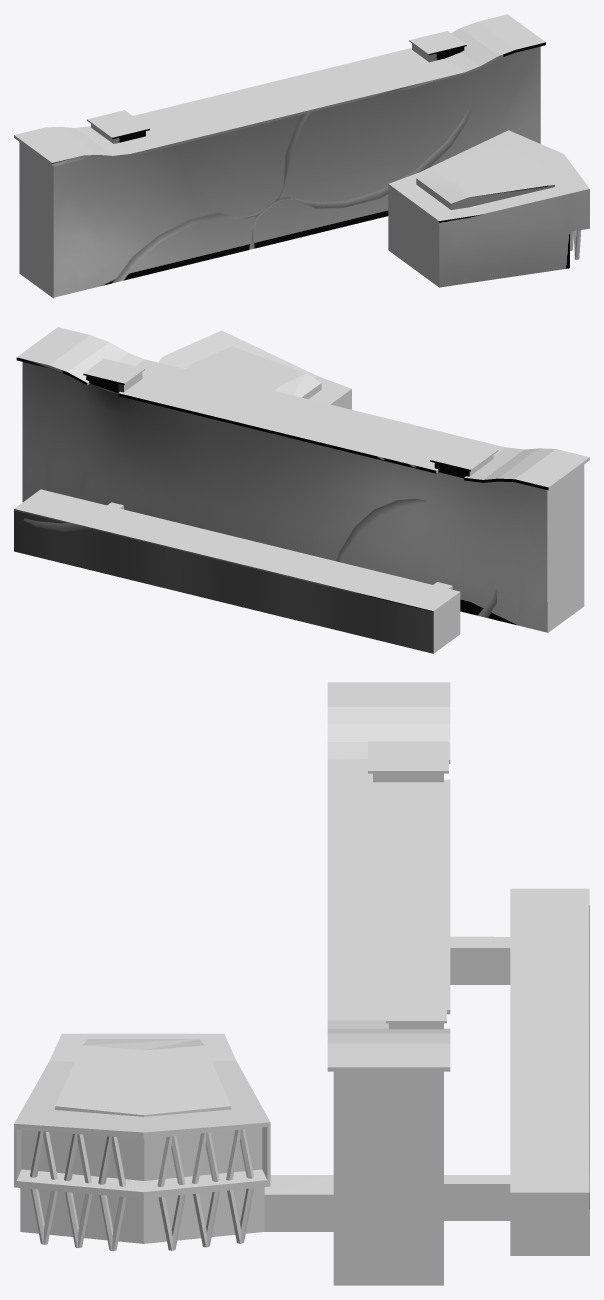
Rendered from hausGausFineTexturedRadiosity.dae.
3 renders of one model, top to bottom at view 1: azimuth 30°, elevation 25°; view 2: azimuth 150°, elevation 25°; view 3: azimuth 270°, elevation 25°, orthographic. The views are drawn at different scales.
Visible parts, largest first — view 1: Rectangle02-node; view 2: Rectangle02-node; view 3: Rectangle02-node, Tube_001.
Part boxes in pixels (x1,y1,x2,y2): Rectangle02-node: (14,14,589,298); Rectangle02-node: (14,327,589,653); Rectangle02-node: (14,682,589,1285); Tube_001: (30,1129,253,1251).
Size of the model in its own units: 21.64 by 13.66 by 5.78.
